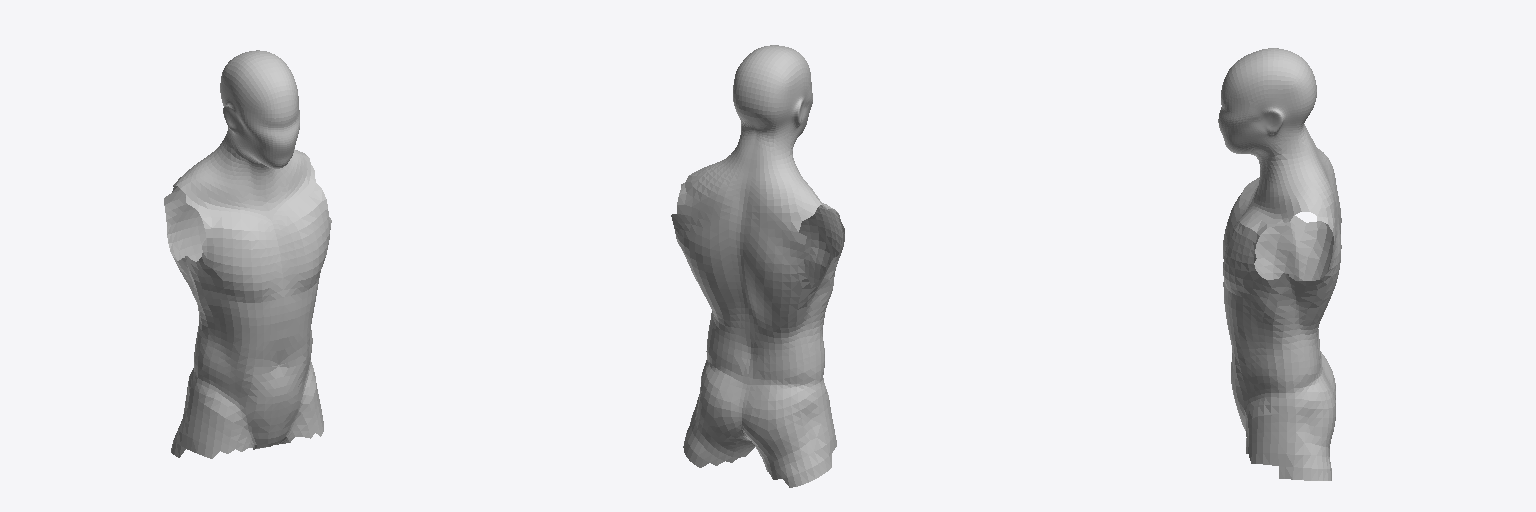
Rendered from humanBody.obj.
3 views of the same model, side by side, from view 1: azimuth 30°, elevation 25°; view 2: azimuth 150°, elevation 25°; view 3: azimuth 270°, elevation 25° (orthographic).
Parts seen in each view (by area): view 1: lowman_shoes; view 2: lowman_shoes; view 3: lowman_shoes.
Part boxes in pixels (bbox=[...]): lowman_shoes: bbox=[164, 50, 331, 458]; lowman_shoes: bbox=[671, 45, 844, 487]; lowman_shoes: bbox=[1218, 48, 1341, 480].
Bounding box in the file's own units: 1.2 × 3.3 × 0.9038.